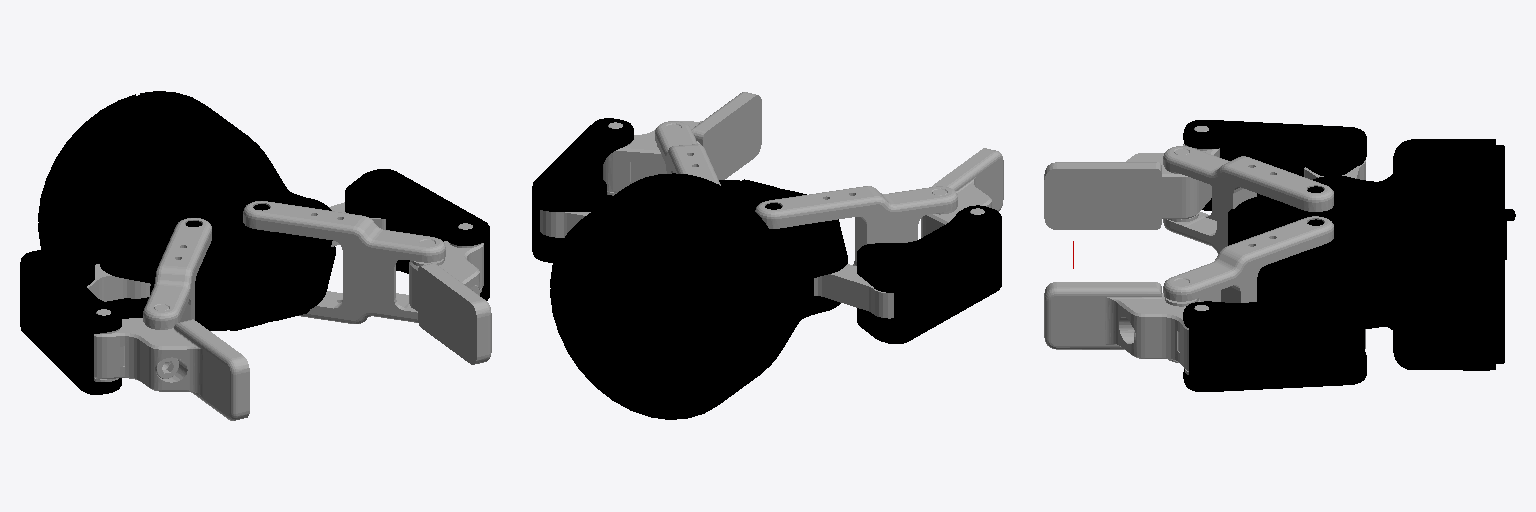
The robot description file, URDF, robot "ur5e_robotiq":
<?xml version="1.0"?>
<robot name="ur5e_robotiq">
  <!-- Links -->
  <link name="base_link">
    <visual>
      <origin rpy="0 0 3.141592653589793" xyz="0 0 0" />
      <geometry>
        <mesh filename="../meshes/ur5e/visual/base.obj" />
      </geometry>
      <material name="LightGrey">
        <color rgba="0.7 0.7 0.7 1.0" />
      </material>
    </visual>
    <collision>
      <origin rpy="0 0 3.141592653589793" xyz="0 0 0" />
      <geometry>
        <mesh filename="../meshes/ur5e/collision/base.stl" />
      </geometry>
    </collision>
    <inertial>
      <mass value="4.0" />
      <origin rpy="0 0 0" xyz="0 0 0" />
      <inertia ixx="0.00443333156" ixy="0.0" ixz="0.0" iyy="0.00443333156" iyz="0.0" izz="0.0072" />
    </inertial>
  </link>

  <link name="shoulder_link">
    <visual>
      <origin rpy="0 0 3.141592653589793" xyz="0 0 0" />
      <geometry>
        <mesh filename="../meshes/ur5e/visual/shoulder.obj" />
      </geometry>
      <material name="UR_Blue">
        <color rgba="0.376 0.576 0.674 1.0" />
      </material>
    </visual>
    <collision>
      <origin rpy="0 0 3.141592653589793" xyz="0 0 0" />
      <geometry>
        <mesh filename="../meshes/ur5e/collision/shoulder.stl" />
      </geometry>
    </collision>
    <inertial>
      <mass value="3.761" />
      <origin rpy="0 0 0" xyz="0.0 -0.00193 -0.02561" />
      <inertia ixx="0.010267499999999999" ixy="0" ixz="0" iyy="0.010267499999999999" iyz="0"
        izz="0.00666" />
    </inertial>
  </link>

  <link name="upper_arm_link">
    <visual>
      <origin rpy="1.5707963267948966 0 -1.5707963267948966" xyz="0 0 0.138" />
      <geometry>
        <mesh filename="../meshes/ur5e/visual/upperarm.obj" />
      </geometry>
      <material name="LightGrey">
        <color rgba="0.7 0.7 0.7 1.0" />
      </material>
    </visual>
    <collision>
      <origin rpy="1.5707963267948966 0 -1.5707963267948966" xyz="0 0 0.138" />
      <geometry>
        <mesh filename="../meshes/ur5e/collision/upperarm.stl" />
      </geometry>
    </collision>
    <inertial>
      <mass value="8.058" />
      <origin rpy="0 1.570796326794897 0" xyz="-0.2125 0.0 0.11336" />
      <inertia ixx="0.13388583541666665" ixy="0" ixz="0" iyy="0.13388583541666665" iyz="0"
        izz="0.0151074" />
    </inertial>
  </link>

  <link name="forearm_link">
    <visual>
      <origin rpy="1.5707963267948966 0 -1.5707963267948966" xyz="0 0 0.007" />
      <geometry>
        <mesh filename="../meshes/ur5e/visual/forearm.obj" />
      </geometry>
      <material name="LightGrey">
        <color rgba="0.7 0.7 0.7 1.0" />
      </material>
    </visual>
    <collision>
      <origin rpy="1.5707963267948966 0 -1.5707963267948966" xyz="0 0 0.007" />
      <geometry>
        <mesh filename="../meshes/ur5e/collision/forearm.stl" />
      </geometry>
    </collision>
    <inertial>
      <mass value="2.846" />
      <origin rpy="0 1.570796326794897 0" xyz="-0.2422 0.0 0.0265" />
      <inertia ixx="0.03120936758333333" ixy="0" ixz="0" iyy="0.03120936758333333" iyz="0"
        izz="0.004095" />
    </inertial>
  </link>

  <link name="wrist_1_link">
    <visual>
      <origin rpy="1.5707963267948966 0 0" xyz="0 0 -0.127" />
      <geometry>
        <mesh filename="../meshes/ur5e/visual/wrist1.obj" />
      </geometry>
      <material name="UR_Blue">
        <color rgba="0.376 0.576 0.674 1.0" />
      </material>
    </visual>
    <collision>
      <origin rpy="1.5707963267948966 0 0" xyz="0 0 -0.127" />
      <geometry>
        <mesh filename="../meshes/ur5e/collision/wrist1.stl" />
      </geometry>
    </collision>
    <inertial>
      <mass value="1.37" />
      <origin rpy="0 0 0" xyz="0.0 -0.01634 -0.0018" />
      <inertia ixx="0.0025599" ixy="0" ixz="0" iyy="0.0025599" iyz="0" izz="0.0021942" />
    </inertial>
  </link>

  <link name="wrist_2_link">
    <visual>
      <origin rpy="0 0 0" xyz="0 0 -0.0997" />
      <geometry>
        <mesh filename="../meshes/ur5e/visual/wrist2.obj" />
      </geometry>
      <material name="LightGrey">
        <color rgba="0.7 0.7 0.7 1.0" />
      </material>
    </visual>
    <collision>
      <origin rpy="0 0 0" xyz="0 0 -0.0997" />
      <geometry>
        <mesh filename="../meshes/ur5e/collision/wrist2.stl" />
      </geometry>
    </collision>
    <inertial>
      <mass value="1.3" />
      <origin rpy="0 0 0" xyz="0.0 0.01634 -0.0018" />
      <inertia ixx="0.0025599" ixy="0" ixz="0" iyy="0.0025599" iyz="0" izz="0.0021942" />
    </inertial>
  </link>

  <link name="wrist_3_link">
    <visual>
      <origin rpy="1.5707963267948966 0 0" xyz="0 0 -0.0989" />
      <geometry>
        <mesh filename="../meshes/ur5e/visual/wrist3.obj" />
      </geometry>
      <material name="LightGrey">
        <color rgba="0.7 0.7 0.7 1.0" />
      </material>
    </visual>
    <collision>
      <origin rpy="1.5707963267948966 0 0" xyz="0 0 -0.0989" />
      <geometry>
        <mesh filename="../meshes/ur5e/collision/wrist3.stl" />
      </geometry>
    </collision>
    <inertial>
      <mass value="0.365" />
      <origin rpy="0 0 0" xyz="0.0 0.0 -0.001159" />
      <inertia ixx="9.890414008333333e-05" ixy="0" ixz="0" iyy="9.890414008333333e-05" iyz="0"
        izz="0.0001321171875" />
    </inertial>
  </link>

  <!-- Robotiq 2F-85 Gripper Links -->
  <link name="robotiq_85_base_link">
    <visual>
      <geometry>
        <mesh filename="../meshes/robotiq/visual/robotiq_base.obj" />
      </geometry>
      <material name="Dark">
        <color rgba="0 0 0 1.0" />
      </material>
    </visual>
    <collision>
      <geometry>
        <mesh filename="../meshes/robotiq/collision/robotiq_base.stl" />
      </geometry>
    </collision>
    <inertial>
      <origin rpy="0 0 0" xyz="0.0 2.274e-05 0.03232288" />
      <mass value="6.6320197e-01" />
      <inertia ixx="5.1617816e-04" ixy="2.936e-8" ixz="0.0" iyy="5.8802208e-04" iyz="-3.2296e-7"
        izz="3.9462776e-04" />
    </inertial>
  </link>

  <link name="robotiq_85_left_knuckle_link">
    <visual>
      <geometry>
        <mesh filename="../meshes/robotiq/visual/left_knuckle.obj" />
      </geometry>
      <material name="LightGrey">
        <color rgba="0.7 0.7 0.7 1.0" />
      </material>
    </visual>
    <collision>
      <geometry>
        <mesh filename="../meshes/robotiq/collision/left_knuckle.stl" />
      </geometry>
    </collision>
    <inertial>
      <origin rpy="0 0 0" xyz="0.01213197 0.0002 -0.00058647" />
      <mass value="1.384773208e-02" />
      <inertia ixx="3.5232e-7" ixy="0.0" ixz="1.1744e-7" iyy="2.31944e-6" iyz="0" izz="2.23136e-6" />
    </inertial>
  </link>

  <link name="robotiq_85_right_knuckle_link">
    <visual>
      <geometry>
        <mesh filename="../meshes/robotiq/visual/right_knuckle.obj" />
      </geometry>
      <material name="LightGrey">
        <color rgba="0.7 0.7 0.7 1.0" />
      </material>
    </visual>
    <collision>
      <geometry>
        <mesh filename="../meshes/robotiq/collision/right_knuckle.stl" />
      </geometry>
    </collision>
    <inertial>
      <origin rpy="0 0 0" xyz="-0.01213197 0.0002 -0.00058647" />
      <mass value="1.384773208e-02" />
      <inertia ixx="3.5232e-7" ixy="0.0" ixz="-1.1744e-7" iyy="2.31944e-6" iyz="0.0"
        izz="2.23136e-6" />
    </inertial>
  </link>

  <link name="robotiq_85_left_finger_link">
    <visual>
      <geometry>
        <mesh filename="../meshes/robotiq/visual/left_finger.obj" />
      </geometry>
      <material name="Dark">
        <color rgba="0 0 0 1.0" />
      </material>
    </visual>
    <collision>
      <geometry>
        <mesh filename="../meshes/robotiq/collision/left_finger.stl" />
      </geometry>
    </collision>
    <inertial>
      <origin rpy="0 0 0" xyz="0.00346899 -0.00079447 0.01867121" />
      <mass value="4.260376752e-02" />
      <inertia ixx="1.385792000000000e-05" ixy="0.0" ixz="-2.17264e-06" iyy="1.183208e-05" iyz="0.0"
        izz="5.19672e-06" />
    </inertial>
  </link>

  <link name="robotiq_85_right_finger_link">
    <visual>
      <geometry>
        <mesh filename="../meshes/robotiq/visual/right_finger.obj" />
      </geometry>
      <material name="Dark">
        <color rgba="0 0 0 1.0" />
      </material>
    </visual>
    <collision>
      <geometry>
        <mesh filename="../meshes/robotiq/collision/right_finger.stl" />
      </geometry>
    </collision>
    <inertial>
      <origin rpy="0 0 0" xyz="-0.00346899 -5.53e-06 0.01867121" />
      <mass value="4.260376752000000e-02" />
      <inertia ixx="1.385792e-05" ixy="0.0" ixz="2.17264e-06" iyy="1.183208e-05" iyz="0.0"
        izz="5.19672e-06" />
    </inertial>
  </link>

  <link name="robotiq_85_left_inner_knuckle_link">
    <visual>
      <geometry>
        <mesh filename="../meshes/robotiq/visual/left_inner_knuckle.obj" />
      </geometry>
      <material name="LightGrey">
        <color rgba="0.7 0.7 0.7 1.0" />
      </material>
    </visual>
    <collision>
      <geometry>
        <mesh filename="../meshes/robotiq/collision/left_inner_knuckle.stl" />
      </geometry>
    </collision>
    <inertial>
      <origin rpy="0 0 0" xyz="0.01897699 0.00015001 0.02247101" />
      <mass value="2.969376448e-02" />
      <inertia ixx="9.57136e-06" ixy="0.0" ixz="-3.93424e-06" iyy="8.69056e-06" iyz="0.0"
        izz="8.19144e-06" />
    </inertial>
  </link>

  <link name="robotiq_85_right_inner_knuckle_link">
    <visual>
      <geometry>
        <mesh filename="../meshes/robotiq/visual/right_inner_knuckle.obj" />
      </geometry>
      <material name="LightGrey">
        <color rgba="0.7 0.7 0.7 1.0" />
      </material>
    </visual>
    <collision>
      <geometry>
        <mesh filename="../meshes/robotiq/collision/right_inner_knuckle.stl" />
      </geometry>
    </collision>
    <inertial>
      <origin rpy="0 0 0" xyz="-0.01926824 5.001e-05 0.02222178" />
      <mass value="2.969376448e-02" />
      <inertia ixx="9.42456e-06" ixy="0.0" ixz="3.9636e-06" iyy="8.69056e-06" iyz="0.0"
        izz="8.33824e-06" />
    </inertial>
  </link>

  <link name="robotiq_85_left_finger_tip_link">
    <visual>
      <geometry>
        <mesh filename="../meshes/robotiq/visual/left_finger_tip.obj" />
      </geometry>
      <material name="LightGrey">
        <color rgba="0.7 0.7 0.7 1.0" />
      </material>
    </visual>
    <collision>
      <geometry>
        <mesh filename="../meshes/robotiq/collision/left_finger_tip.stl" />
      </geometry>
      <surface>
        <friction>
          <ode>
            <mu1>100000.0</mu1>
            <mu2>100000.0</mu2>
          </ode>
        </friction>
        <contact>
          <ode>
            <kp>1e+5</kp>
            <kd>1</kd>
            <soft_cfm>0</soft_cfm>
            <soft_erp>0.2</soft_erp>
            <minDepth>0.002</minDepth>
            <maxVel>0</maxVel>
          </ode>
        </contact>
      </surface>
    </collision>
    <inertial>
      <origin rpy="0 0 0" xyz="-0.01456706 -0.0008 0.01649701" />
      <mass value="4.268588744e-02" />
      <inertia ixx="1.048152e-05" ixy="0.0" ixz="3.5232e-6" iyy="1.197888e-05" iyz="0.0"
        izz="4.22784e-06" />
    </inertial>
  </link>

  <link name="robotiq_85_right_finger_tip_link">
    <visual>
      <geometry>
        <mesh filename="../meshes/robotiq/visual/right_finger_tip.obj" />
      </geometry>
      <material name="LightGrey">
        <color rgba="0.7 0.7 0.7 1.0" />
      </material>
    </visual>
    <collision>
      <geometry>
        <mesh filename="../meshes/robotiq/collision/right_finger_tip.stl" />
      </geometry>
      <surface>
        <friction>
          <ode>
            <mu1>100000.0</mu1>
            <mu2>100000.0</mu2>
          </ode>
        </friction>
        <contact>
          <ode>
            <kp>1e+5</kp>
            <kd>1</kd>
            <soft_cfm>0</soft_cfm>
            <soft_erp>0.2</soft_erp>
            <minDepth>0.002</minDepth>
            <maxVel>0</maxVel>
          </ode>
        </contact>
      </surface>
    </collision>
    <inertial>
      <origin rpy="0 0 0" xyz="0.01456706 5e-05 0.01649701" />
      <mass value="4.268588744e-02" />
      <inertia ixx="1.048152e-05" ixy="0.0" ixz="-3.5232e-06" iyy="1.197888e-05" iyz="0.0"
        izz="4.22784e-06" />
    </inertial>
  </link>

  <!-- Gripper Center Link -->
  <link name="gripper_center_link">
    <visual>
      <origin rpy="1.5708 0 0" xyz="0 0 0" />
      <geometry>
        <cylinder length="0.01" radius="0.0001" />
      </geometry>
      <material name="Red">
        <color rgba="1 0 0 0.2" />
      </material>
    </visual>
    <!-- <collision>
      <origin rpy="1.5708 0 0" xyz="0 0 0" />
      <geometry>
        <cylinder length="0.0001" radius="0.0001" />
      </geometry>
    </collision> -->
    <inertial>
      <origin rpy="0 0 0" xyz="0 0 0" />
      <mass value="0.001" />
      <inertia ixx="0.000001" ixy="0" ixz="0" iyy="0.000001" iyz="0" izz="0.000001" />
    </inertial>
  </link>

  <!-- Joints -->
  <joint name="shoulder_pan_joint" type="revolute">
    <parent link="base_link" />
    <child link="shoulder_link" />
    <origin rpy="0 0 0" xyz="0 0 0.1625" />
    <axis xyz="0 0 1" />
    <limit effort="150.0" lower="-6.283185307179586" upper="6.283185307179586"
      velocity="3.141592653589793" />
    <dynamics damping="0" friction="0" />
  </joint>

  <joint name="shoulder_lift_joint" type="revolute">
    <parent link="shoulder_link" />
    <child link="upper_arm_link" />
    <origin rpy="1.570796327 0 0" xyz="0 0 0" />
    <axis xyz="0 0 1" />
    <limit effort="150.0" lower="-6.283185307179586" upper="6.283185307179586"
      velocity="3.141592653589793" />
    <dynamics damping="0" friction="0" />
  </joint>

  <joint name="elbow_joint" type="revolute">
    <parent link="upper_arm_link" />
    <child link="forearm_link" />
    <origin rpy="0 0 0" xyz="-0.425 0 0" />
    <axis xyz="0 0 1" />
    <limit effort="150.0" lower="-3.141592653589793" upper="3.141592653589793"
      velocity="3.141592653589793" />
    <dynamics damping="0" friction="0" />
  </joint>

  <joint name="wrist_1_joint" type="revolute">
    <parent link="forearm_link" />
    <child link="wrist_1_link" />
    <origin rpy="0 0 0" xyz="-0.3922 0 0.1333" />
    <axis xyz="0 0 1" />
    <limit effort="28.0" lower="-6.283185307179586" upper="6.283185307179586"
      velocity="3.141592653589793" />
    <dynamics damping="0" friction="0" />
  </joint>

  <joint name="wrist_2_joint" type="revolute">
    <parent link="wrist_1_link" />
    <child link="wrist_2_link" />
    <origin rpy="1.570796327 0 0" xyz="0 -0.0997 -2.044881182297852e-11" />
    <axis xyz="0 0 1" />
    <limit effort="28.0" lower="-6.283185307179586" upper="6.283185307179586"
      velocity="3.141592653589793" />
    <dynamics damping="0" friction="0" />
  </joint>

  <joint name="wrist_3_joint" type="revolute">
    <parent link="wrist_2_link" />
    <child link="wrist_3_link" />
    <origin rpy="1.570796326589793 3.141592653589793 3.141592653589793"
      xyz="0 0.0996 -2.042830148012698e-11" />
    <axis xyz="0 0 1" />
    <limit effort="28.0" lower="-6.283185307179586" upper="6.283185307179586"
      velocity="3.141592653589793" />
    <dynamics damping="0" friction="0" />
  </joint>

  <!-- ROS-Industrial 'tool0' frame - all-zeros tool frame -->
  <link name="tool0" />
  <joint name="wrist_3-tool0" type="fixed">
    <origin rpy="0 0 0" xyz="0 0 0" />
    <parent link="wrist_3_link" />
    <child link="tool0" />
  </joint>

  <!-- Robotiq 2F-85 Gripper Joints -->
  <joint name="robotiq_85_base_joint" type="fixed">
    <parent link="tool0" />
    <child link="robotiq_85_base_link" />
    <origin rpy="0 0 0" xyz="0 0 0" />
  </joint>

  <joint name="robotiq_85_left_knuckle_joint" type="revolute">
    <parent link="robotiq_85_base_link" />
    <child link="robotiq_85_left_knuckle_link" />
    <axis xyz="0 -1 0" />
    <origin rpy="0 0 0" xyz="0.03060114 0.0 0.05490452" />
    <limit effort="50" lower="0.0" upper="0.8" velocity="0.5" />
  </joint>

  <joint name="robotiq_85_right_knuckle_joint" type="revolute">
    <parent link="robotiq_85_base_link" />
    <child link="robotiq_85_right_knuckle_link" />
    <axis xyz="0 -1 0" />
    <origin rpy="0 0 0" xyz="-0.03060114 0.0 0.05490452" />
    <limit effort="50" lower="-0.8" upper="0.0" velocity="0.5" />
    <mimic joint="robotiq_85_left_knuckle_joint" multiplier="-1" />
  </joint>

  <joint name="robotiq_85_left_finger_joint" type="fixed">
    <parent link="robotiq_85_left_knuckle_link" />
    <child link="robotiq_85_left_finger_link" />
    <origin rpy="0 0 0" xyz="0.03152616 0.0 -0.00376347" />
  </joint>

  <joint name="robotiq_85_right_finger_joint" type="fixed">
    <parent link="robotiq_85_right_knuckle_link" />
    <child link="robotiq_85_right_finger_link" />
    <origin rpy="0 0 0" xyz="-0.03152616 0.0 -0.00376347" />
  </joint>

  <joint name="robotiq_85_left_inner_knuckle_joint" type="continuous">
    <parent link="robotiq_85_base_link" />
    <child link="robotiq_85_left_inner_knuckle_link" />
    <axis xyz="0 -1 0" />
    <origin rpy="0 0 0" xyz="0.0127 0.0 0.06142" />
    <mimic joint="robotiq_85_left_knuckle_joint" />
  </joint>

  <joint name="robotiq_85_right_inner_knuckle_joint" type="continuous">
    <parent link="robotiq_85_base_link" />
    <child link="robotiq_85_right_inner_knuckle_link" />
    <axis xyz="0 -1 0" />
    <origin rpy="0 0 0" xyz="-0.0127 0.0 0.06142" />
    <mimic joint="robotiq_85_left_knuckle_joint" multiplier="-1" />
  </joint>

  <joint name="robotiq_85_left_finger_tip_joint" type="continuous">
    <parent link="robotiq_85_left_finger_link" />
    <child link="robotiq_85_left_finger_tip_link" />
    <axis xyz="0 -1 0" />
    <origin rpy="0 0 0" xyz="0.00563134 0.0 0.04718515" />
    <mimic joint="robotiq_85_left_knuckle_joint" multiplier="-1" />
  </joint>

  <joint name="robotiq_85_right_finger_tip_joint" type="continuous">
    <parent link="robotiq_85_right_finger_link" />
    <child link="robotiq_85_right_finger_tip_link" />
    <axis xyz="0 -1 0" />
    <origin rpy="0 0 0" xyz="-0.00563134 0.0 0.04718515" />
    <mimic joint="robotiq_85_left_knuckle_joint" />
  </joint>

  <!-- Gripper Center Joint -->
  <joint name="gripper_center_joint" type="fixed">
    <parent link="tool0" />
    <child link="gripper_center_link" />
    <origin rpy="0 0 0" xyz="0 0 0.14" />
  </joint>
</robot>

--- Facts derived from the render (not from the file) ---
The picture shows the robot from 3 angles, left to right: view 1: azimuth 30°, elevation 25°; view 2: azimuth 150°, elevation 25°; view 3: azimuth 270°, elevation 25°; orthographic projection.
Robot: ur5e_robotiq — 18 links, 17 joints (8 revolute, 4 continuous, 5 fixed); root link base_link; default pose: all joints at 0.
Links seen in each view (by area): view 1: robotiq_85_base_link, robotiq_85_left_inner_knuckle_link, robotiq_85_right_finger_tip_link, robotiq_85_right_finger_link, robotiq_85_left_finger_tip_link, robotiq_85_left_finger_link, robotiq_85_right_inner_knuckle_link, robotiq_85_right_knuckle_link; view 2: robotiq_85_base_link, robotiq_85_right_finger_link, robotiq_85_right_inner_knuckle_link, robotiq_85_left_finger_tip_link, robotiq_85_left_finger_link, robotiq_85_right_finger_tip_link, robotiq_85_left_inner_knuckle_link, robotiq_85_right_knuckle_link, robotiq_85_left_knuckle_link; view 3: robotiq_85_base_link, robotiq_85_left_finger_link, robotiq_85_right_finger_tip_link, robotiq_85_left_finger_tip_link, robotiq_85_right_finger_link, robotiq_85_right_inner_knuckle_link, robotiq_85_left_inner_knuckle_link.
Link boxes in pixels (left/top/right/bottom): robotiq_85_base_link: left=38, top=91, right=335, bottom=330; robotiq_85_left_inner_knuckle_link: left=243, top=201, right=445, bottom=323; robotiq_85_right_finger_tip_link: left=94, top=305, right=249, bottom=420; robotiq_85_right_finger_link: left=20, top=249, right=121, bottom=394; robotiq_85_left_finger_tip_link: left=409, top=223, right=491, bottom=364; robotiq_85_left_finger_link: left=345, top=169, right=489, bottom=300; robotiq_85_right_inner_knuckle_link: left=143, top=218, right=211, bottom=327; robotiq_85_right_knuckle_link: left=87, top=264, right=150, bottom=301; robotiq_85_base_link: left=550, top=173, right=847, bottom=419; robotiq_85_right_finger_link: left=857, top=205, right=1001, bottom=343; robotiq_85_right_inner_knuckle_link: left=755, top=186, right=957, bottom=265; robotiq_85_left_finger_tip_link: left=603, top=92, right=761, bottom=195; robotiq_85_left_finger_link: left=532, top=118, right=633, bottom=262; robotiq_85_right_finger_tip_link: left=921, top=148, right=1003, bottom=237; robotiq_85_left_inner_knuckle_link: left=655, top=121, right=720, bottom=185; robotiq_85_right_knuckle_link: left=814, top=264, right=893, bottom=318; robotiq_85_left_knuckle_link: left=540, top=210, right=590, bottom=237; robotiq_85_base_link: left=1228, top=139, right=1515, bottom=370; robotiq_85_left_finger_link: left=1183, top=283, right=1366, bottom=391; robotiq_85_right_finger_tip_link: left=1044, top=126, right=1219, bottom=229; robotiq_85_left_finger_tip_link: left=1044, top=282, right=1208, bottom=374; robotiq_85_right_finger_link: left=1183, top=120, right=1366, bottom=210; robotiq_85_right_inner_knuckle_link: left=1163, top=146, right=1333, bottom=254; robotiq_85_left_inner_knuckle_link: left=1163, top=216, right=1333, bottom=362.
Size in the robot's own frame: 0.1524 by 0.1527 by 0.075 metres.
9 mesh visuals loaded from 16 distinct referenced files (9 OBJ); not drawn: 7 (reference not matched to a file when rendering).